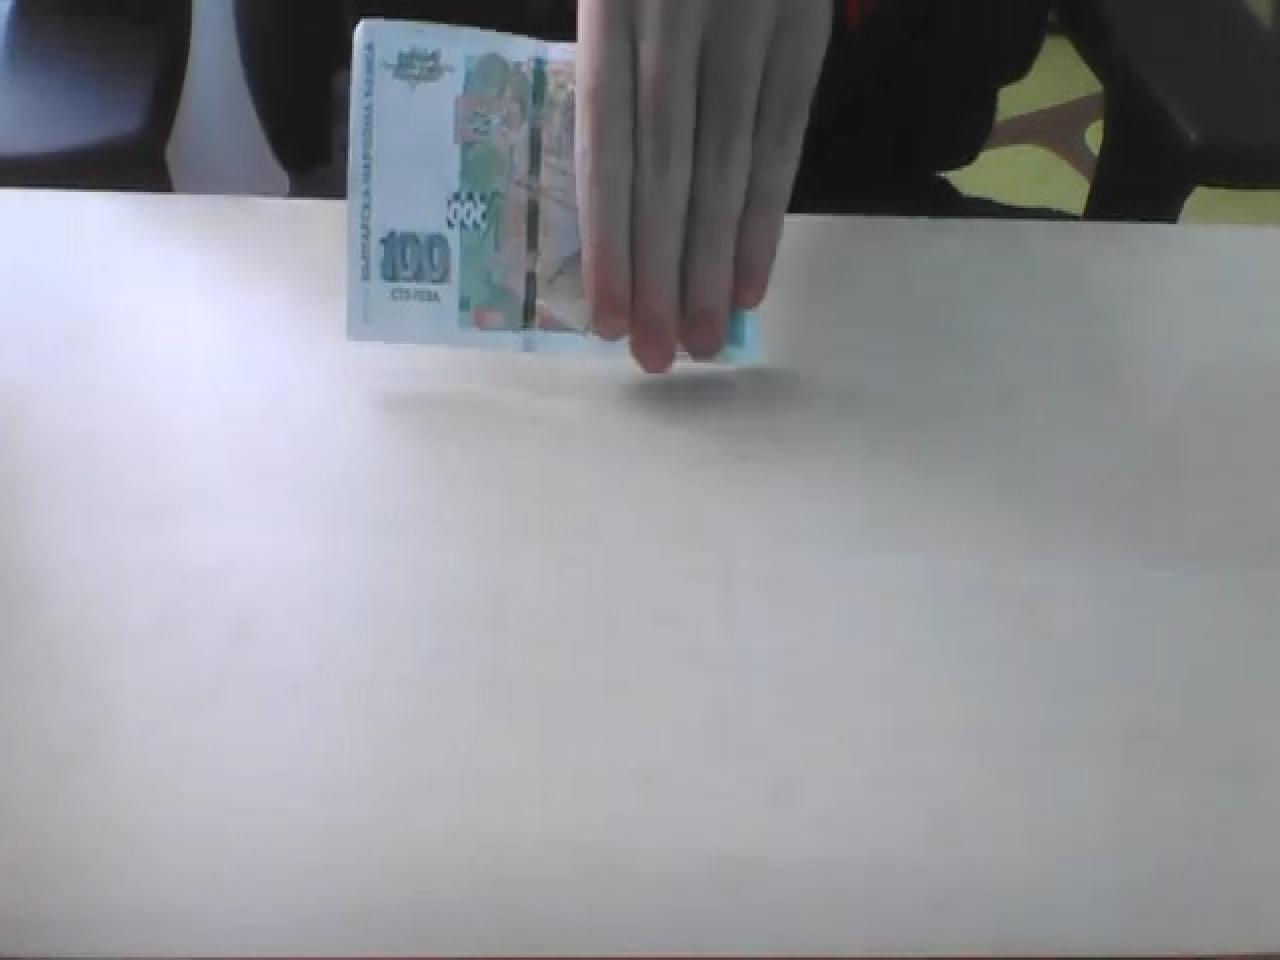100leva: (376, 224, 452, 285)
